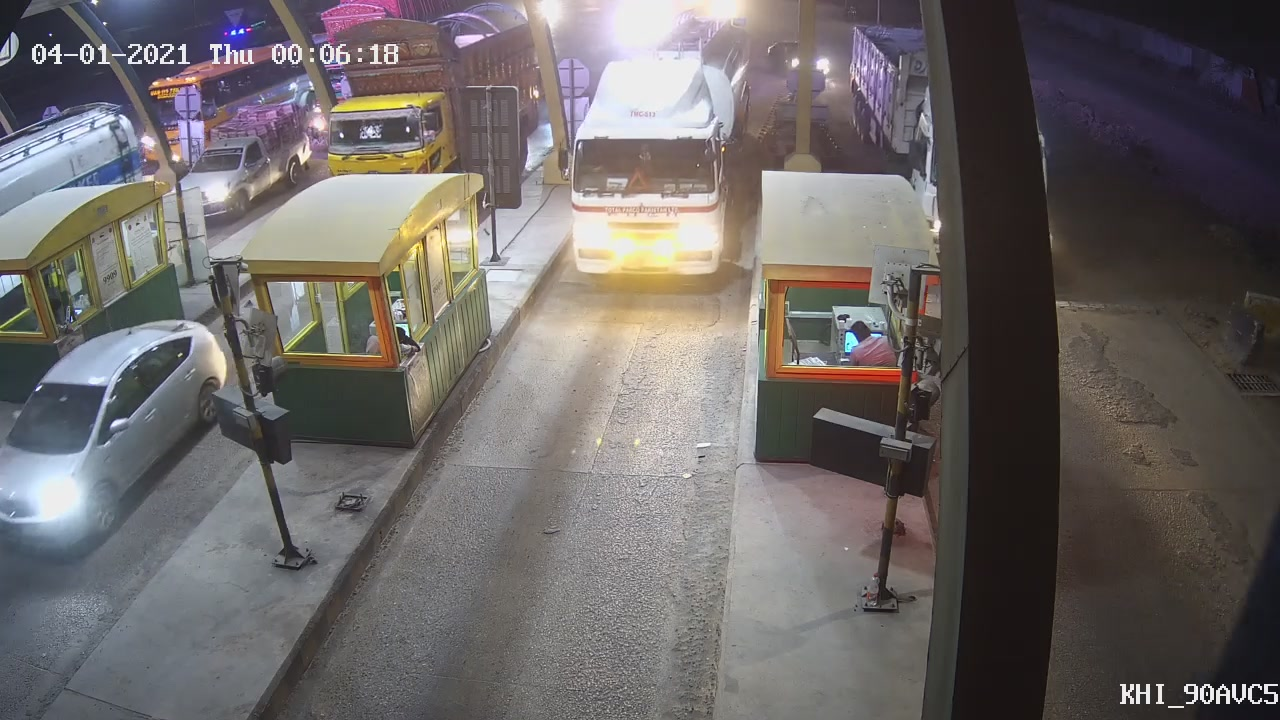F6: (549, 9, 761, 306)
